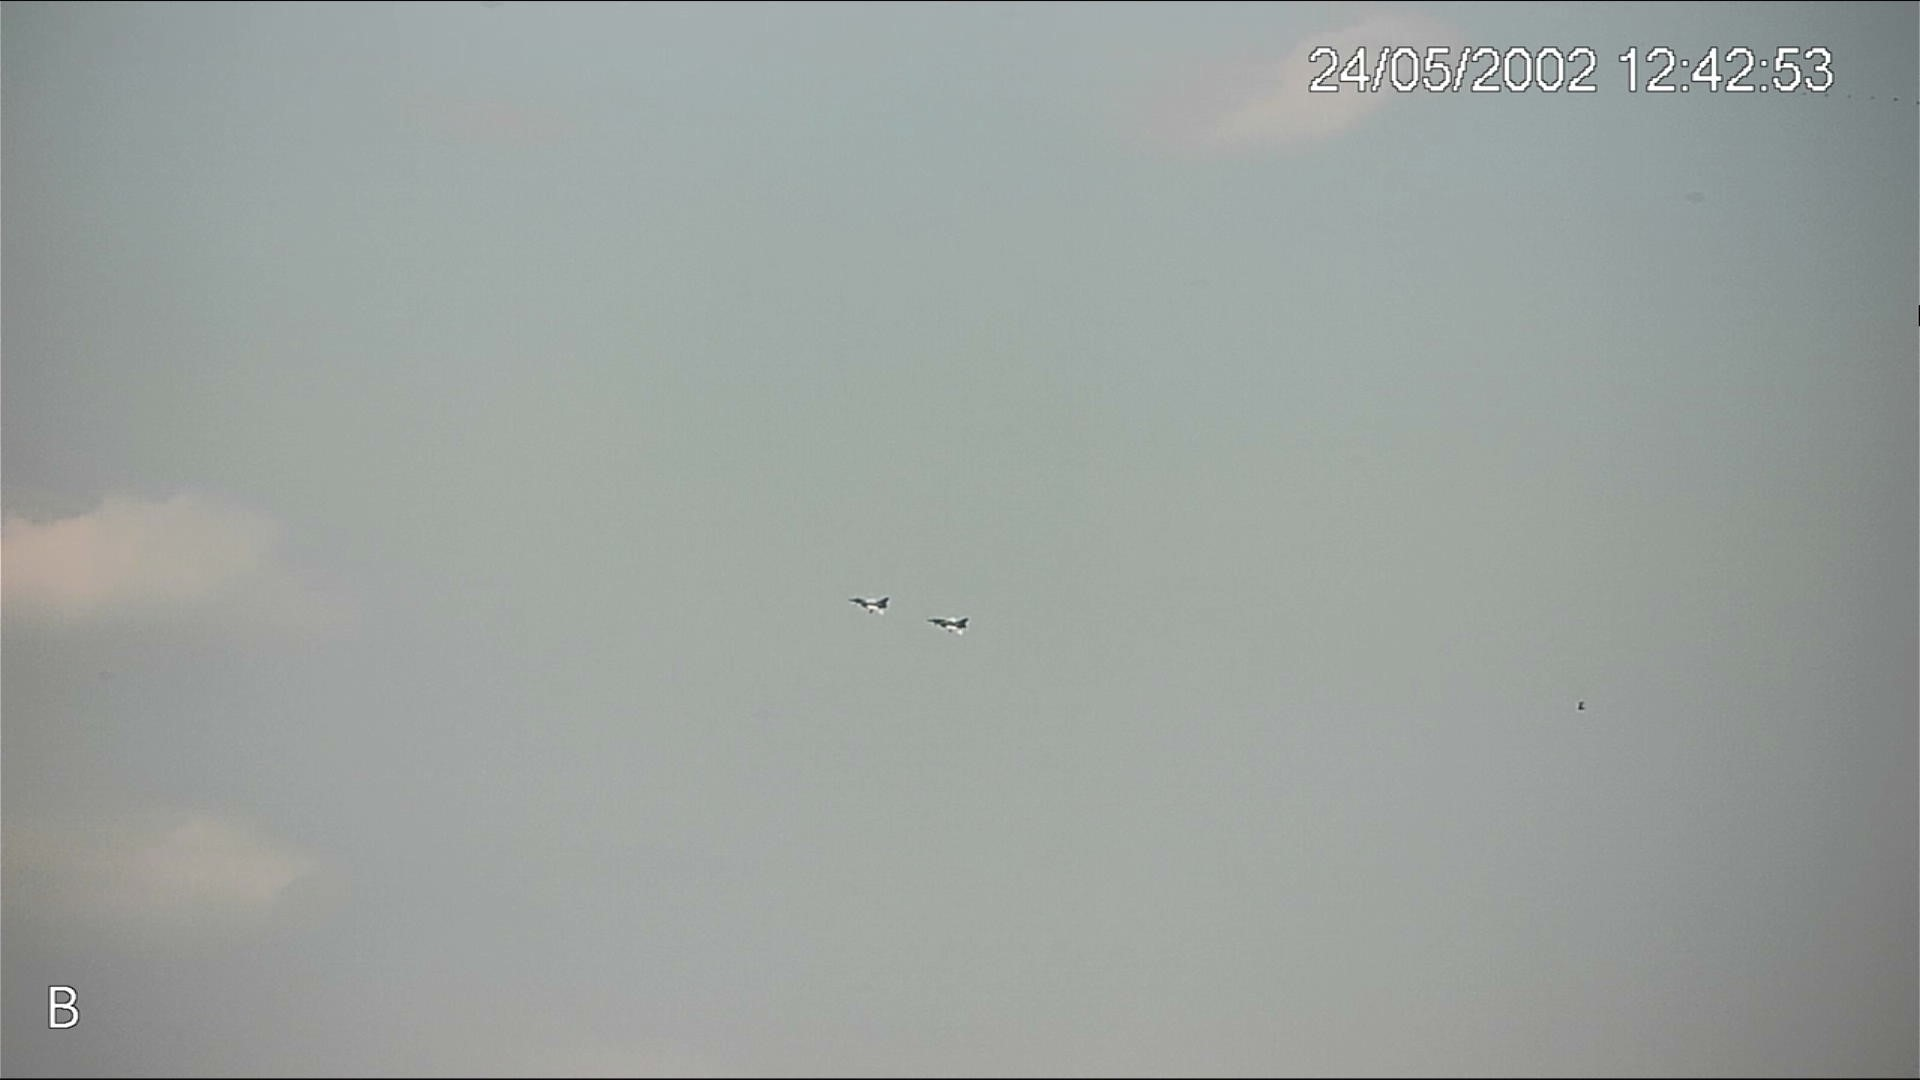SU_30: (924, 615, 971, 640), (847, 595, 891, 616)
